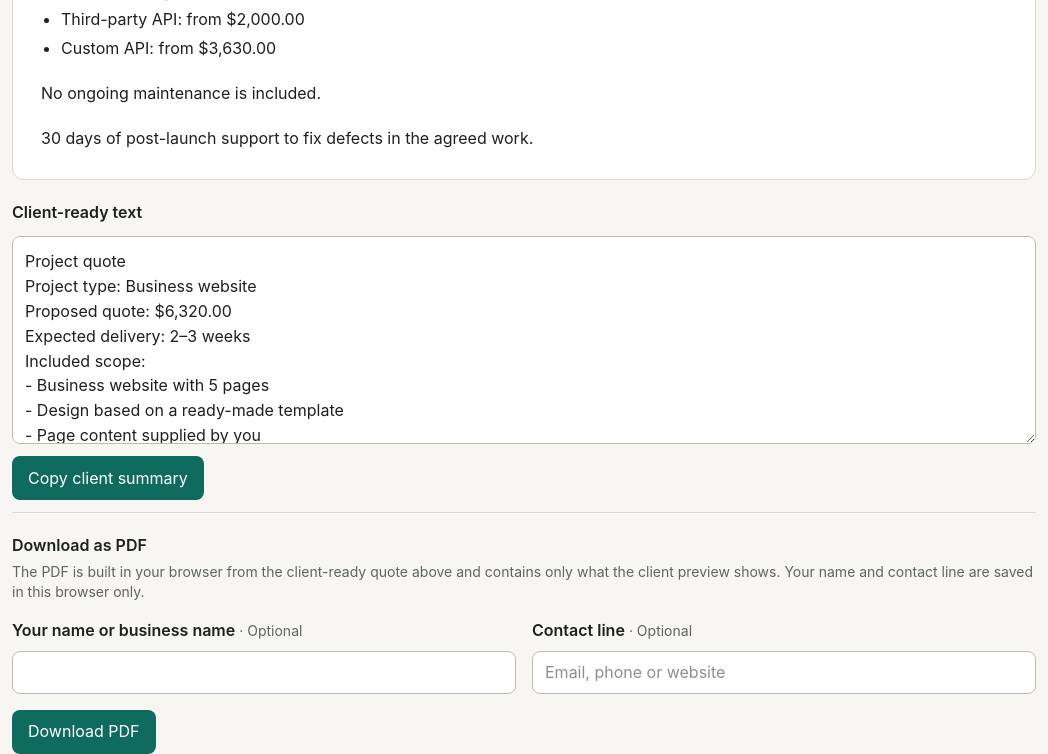
Test: ResultWorkspace › supports clipboard success and the selectable manual fallback
(page scrolled)
Click the button "Copy client summary".
click(108, 478)  # box [12,456,204,500]
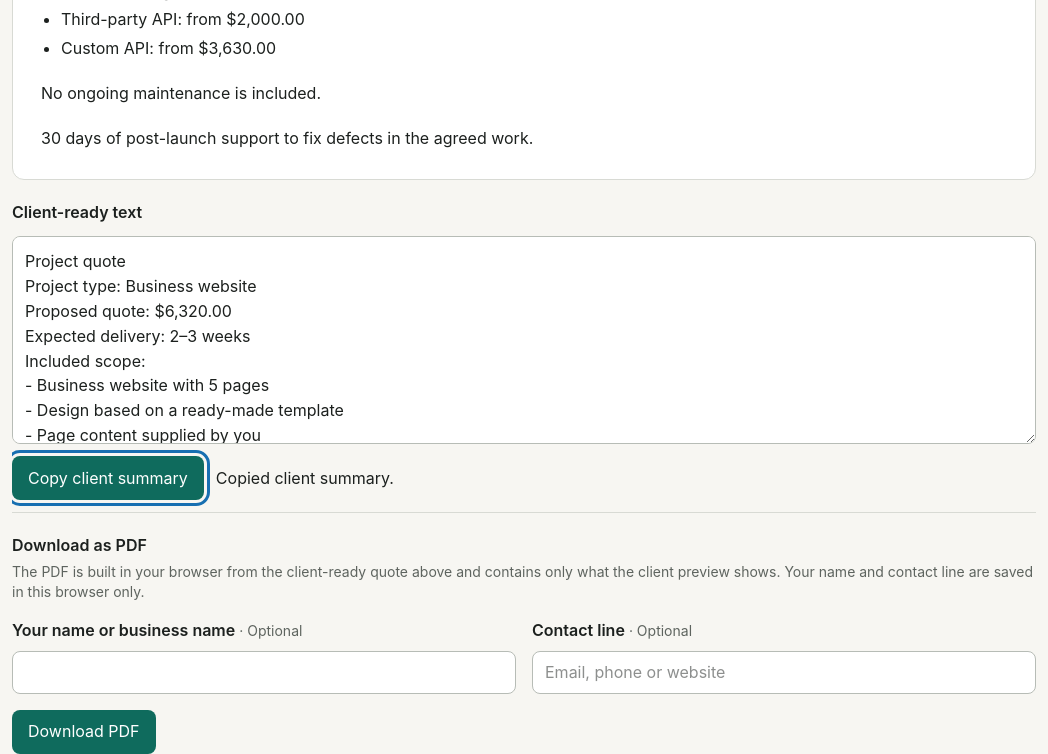
Expected: the text "Copied client summary." is shown, [216,466,394,491]
Click the button "Copy client summary".
click(108, 478)  # box [12,456,204,500]
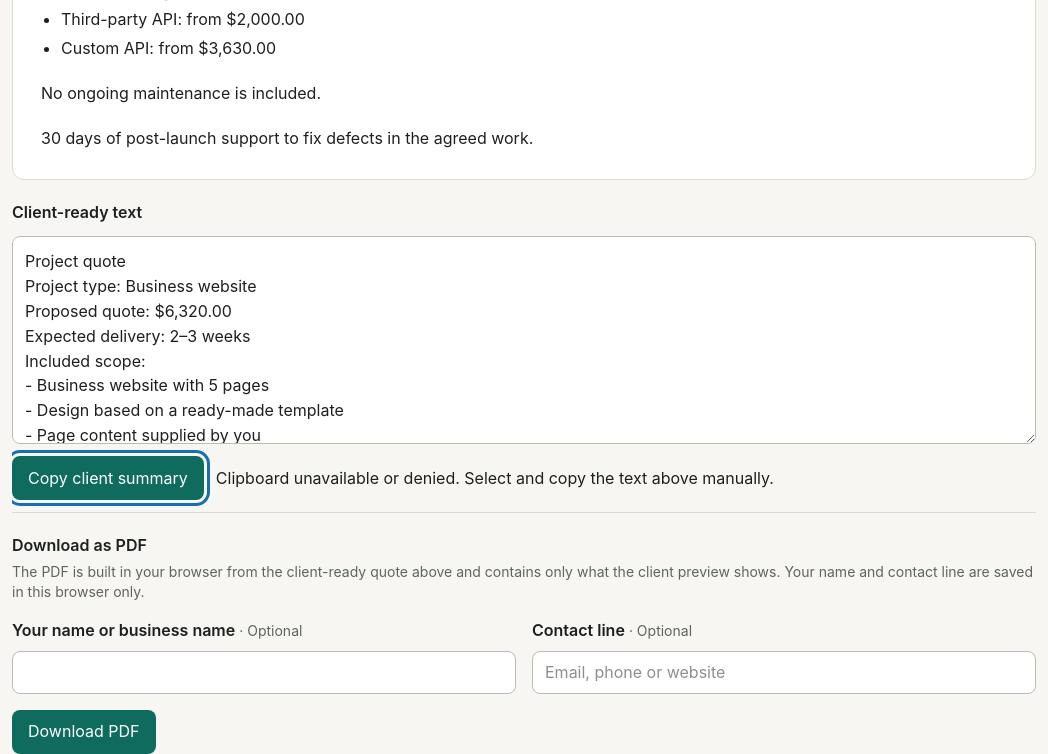
Expected: the text "Clipboard unavailable or denied. Select and copy the text above manually." is shown, [216,466,774,491]
